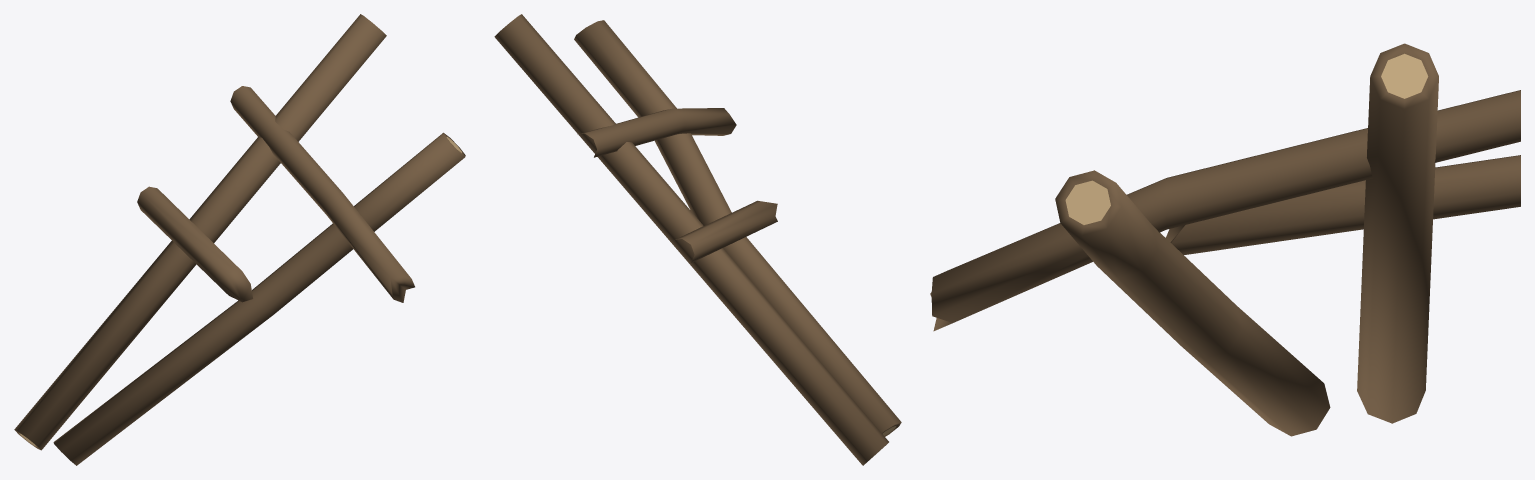
File: rpgpp_av_roof_support_01_6x3x3_half_c.gltf
The picture shows the model from 3 angles, left to right: view 1: azimuth 30°, elevation 25°; view 2: azimuth 150°, elevation 25°; view 3: azimuth 270°, elevation 25°; orthographic projection. The views are drawn at different scales.
Visible parts, largest first — view 1: rpgpp_av_roof_support_01_6x3x3_half_c; view 2: rpgpp_av_roof_support_01_6x3x3_half_c; view 3: rpgpp_av_roof_support_01_6x3x3_half_c.
Part boxes in pixels (x1,y1,x2,y2): rpgpp_av_roof_support_01_6x3x3_half_c: [14, 14, 465, 465]; rpgpp_av_roof_support_01_6x3x3_half_c: [494, 14, 901, 465]; rpgpp_av_roof_support_01_6x3x3_half_c: [930, 43, 1520, 436].
Bounding box in the file's own units: 0.0397 × 0.0359 × 0.0274.
Materials: 1 (1 with a texture image).
